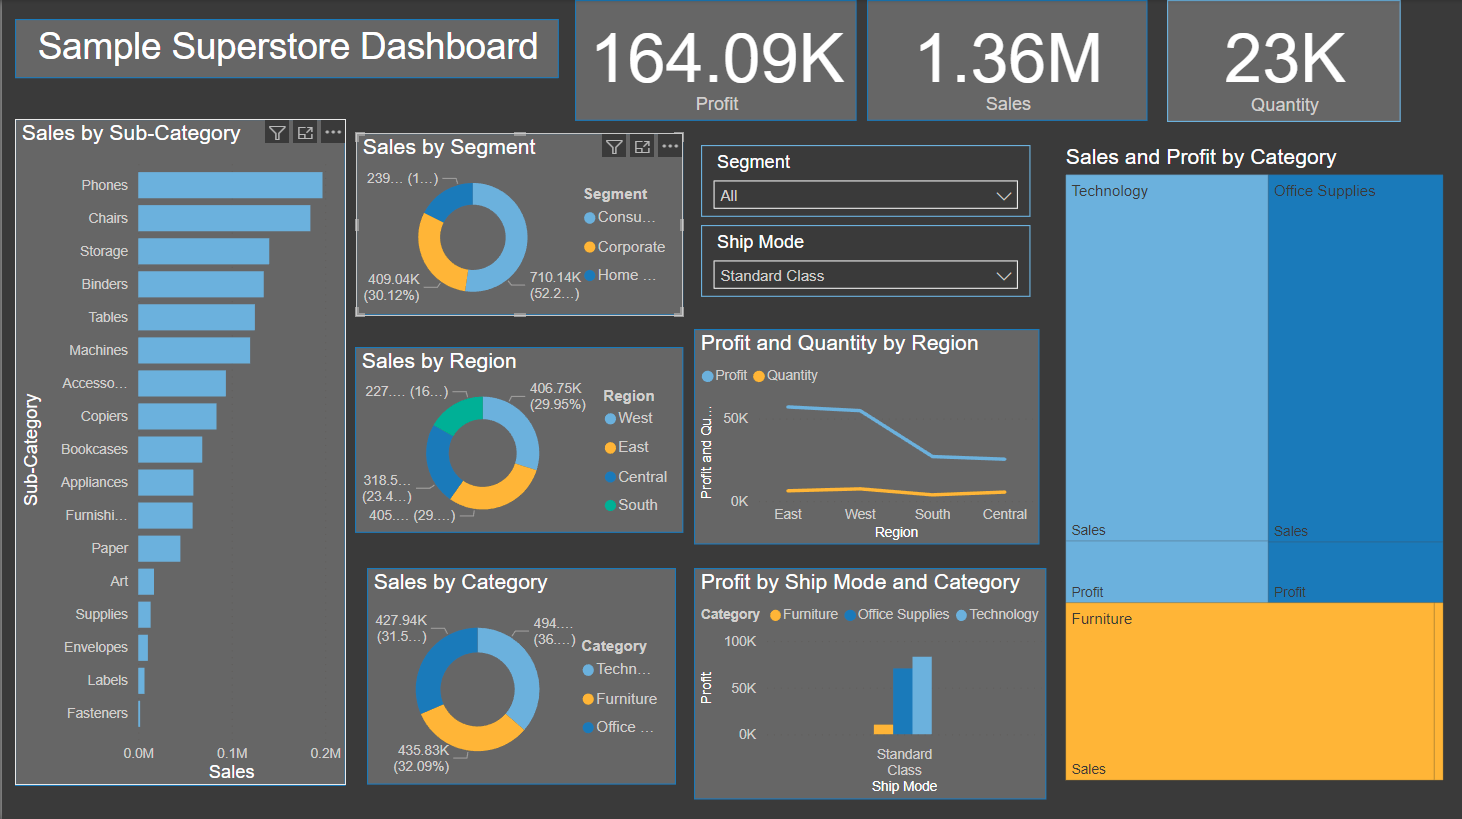

What the dashboard file says about the page in this screenshot:
{"tool":"powerbi","page":{"name":"Page 1","canvas":[1280,720],"ordinal":0},"visuals":[{"type":"donutChart","fields":{"Y":["Sum(SampleSuperstore.Sales)"],"Category":["SampleSuperstore.Category"]},"box":[319.7,497.7,271,190.4],"z":0},{"type":"donutChart","fields":{"Y":["Sum(SampleSuperstore.Sales)"],"Category":["SampleSuperstore.Segment"]},"box":[310.3,116.7,286.9,160.5],"z":1000},{"type":"donutChart","fields":{"Y":["Sum(SampleSuperstore.Sales)"],"Category":["SampleSuperstore.Region"]},"box":[309.6,304.3,287.6,163.1],"z":2000},{"type":"clusteredColumnChart","fields":{"Y":["Sum(SampleSuperstore.Profit)"],"Category":["SampleSuperstore.Ship Mode"],"Series":["SampleSuperstore.Category"]},"box":[606.9,498.1,308.7,202.6],"z":3000},{"type":"lineChart","fields":{"Y":["Sum(SampleSuperstore.Profit)","Sum(SampleSuperstore.Quantity)"],"Category":["SampleSuperstore.Region"]},"box":[606.9,288.5,303.4,188.6],"z":4000},{"type":"barChart","fields":{"Y":["Sum(SampleSuperstore.Sales)"],"Category":["SampleSuperstore.Sub-Category"]},"box":[11.7,104.1,289.8,584.6],"z":5000},{"type":"textbox","box":[11.4,16.7,477.1,51.7],"z":6000},{"type":"card","fields":{"Values":["Sum(SampleSuperstore.Profit)"]},"box":[502.5,0,247.3,106.1],"z":7000},{"type":"card","fields":{"Values":["Sum(SampleSuperstore.Sales)"]},"box":[758.6,0,246.4,106.1],"z":8000},{"type":"slicer","fields":{"Values":["SampleSuperstore.Segment"]},"box":[613,127.2,289.4,63.1],"z":8001},{"type":"slicer","fields":{"Values":["SampleSuperstore.Ship Mode"]},"box":[613,197.3,289.4,63.1],"z":8002},{"type":"card","fields":{"Values":["Sum(SampleSuperstore.Quantity)"]},"box":[1021.7,0,205.2,107],"z":8003},{"type":"treemap","fields":{"Values":["Sum(SampleSuperstore.Sales)","Sum(SampleSuperstore.Profit)"],"Group":["SampleSuperstore.Category","SampleSuperstore.Sub-Category"]},"box":[927.8,127.2,341.1,562.1],"z":8004}]}

Visuals, with their boxes in screenshot pixels (x1, y1, x2, y2), scaled from the page's 1280x720 canvas onto the 1462x819 screenshot:
donutChart - Sum(SampleSuperstore.Sales) x SampleSuperstore.Category: bbox=[365, 566, 675, 783]
donutChart - Sum(SampleSuperstore.Sales) x SampleSuperstore.Segment: bbox=[354, 133, 682, 315]
donutChart - Sum(SampleSuperstore.Sales) x SampleSuperstore.Region: bbox=[354, 346, 682, 532]
clusteredColumnChart - Sum(SampleSuperstore.Profit) x SampleSuperstore.Ship Mode: bbox=[693, 567, 1046, 797]
lineChart - Sum(SampleSuperstore.Profit) x Sum(SampleSuperstore.Quantity): bbox=[693, 328, 1040, 543]
barChart - Sum(SampleSuperstore.Sales) x SampleSuperstore.Sub-Category: bbox=[13, 118, 344, 783]
textbox: bbox=[13, 19, 558, 78]
card - Sum(SampleSuperstore.Profit): bbox=[574, 0, 856, 121]
card - Sum(SampleSuperstore.Sales): bbox=[866, 0, 1148, 121]
slicer - SampleSuperstore.Segment: bbox=[700, 145, 1031, 216]
slicer - SampleSuperstore.Ship Mode: bbox=[700, 224, 1031, 296]
card - Sum(SampleSuperstore.Quantity): bbox=[1167, 0, 1401, 122]
treemap - Sum(SampleSuperstore.Sales) x Sum(SampleSuperstore.Profit): bbox=[1060, 145, 1449, 784]
